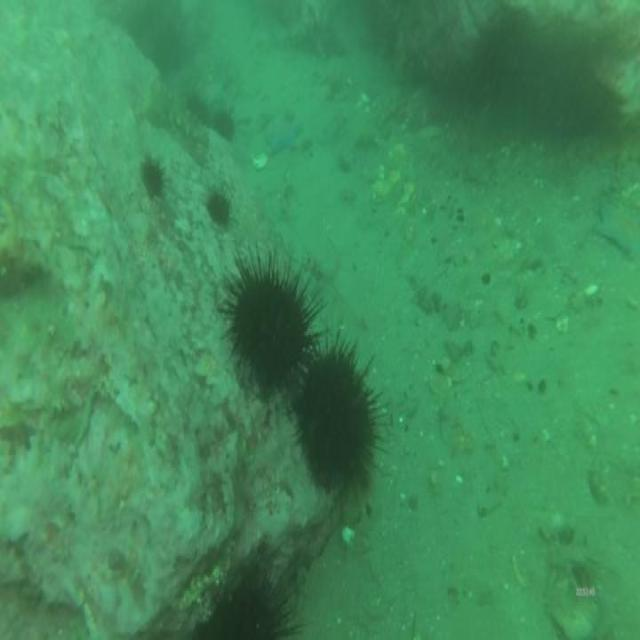echinus: (299, 346, 373, 492), (230, 270, 310, 387), (205, 581, 284, 640), (186, 92, 212, 125), (206, 191, 228, 229), (141, 158, 162, 196), (212, 108, 234, 142)
holothurian: (145, 76, 204, 145)
scallop: (342, 526, 356, 547)
starfish: (598, 202, 640, 259), (264, 117, 299, 152)
